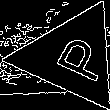P_NW: (36, 29, 106, 85)
